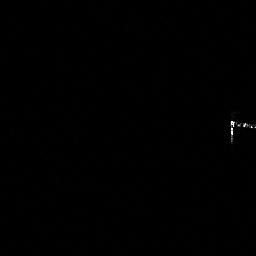ship: (230, 119, 256, 130)
